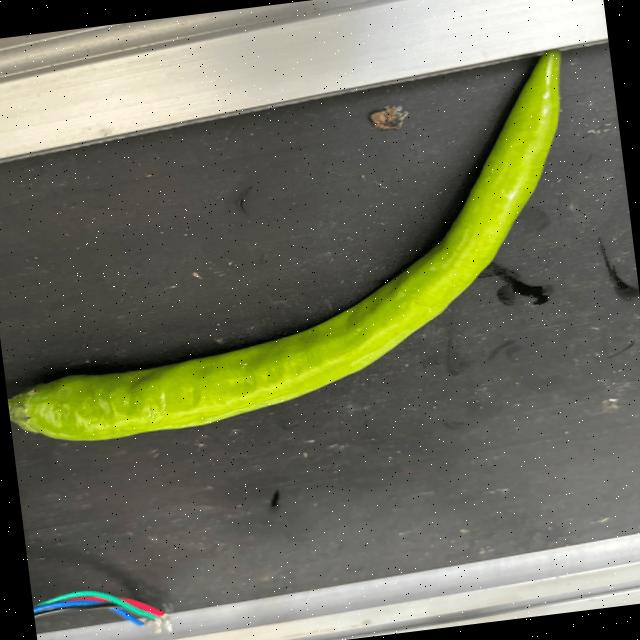chili: (10, 46, 565, 441)
